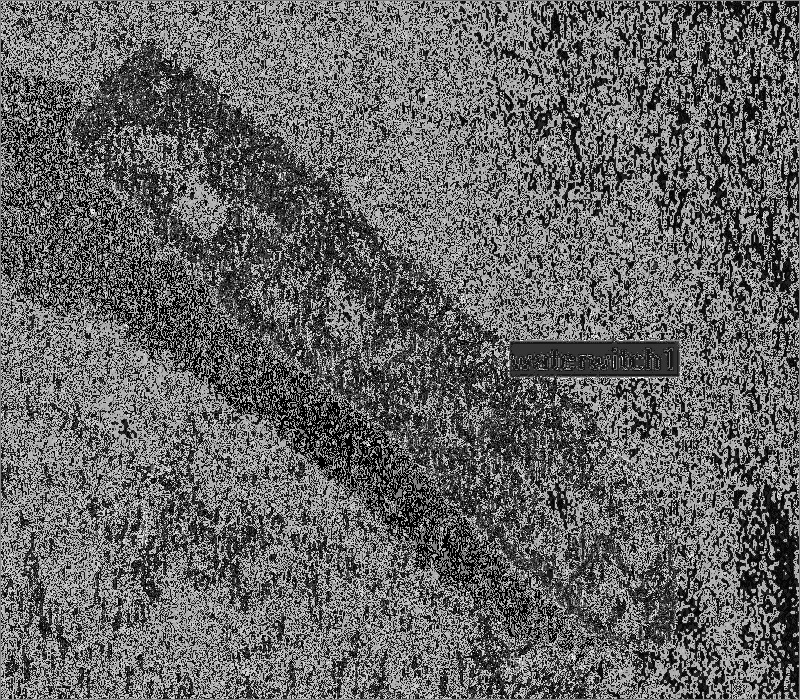ship: (72, 43, 682, 647)
